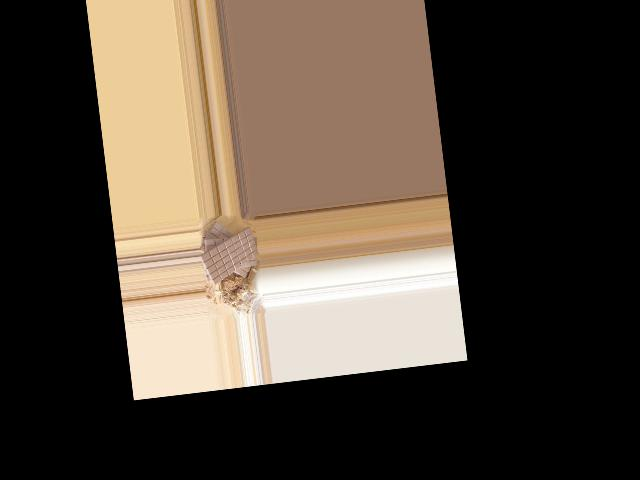chocolate: (197, 225, 259, 289)
